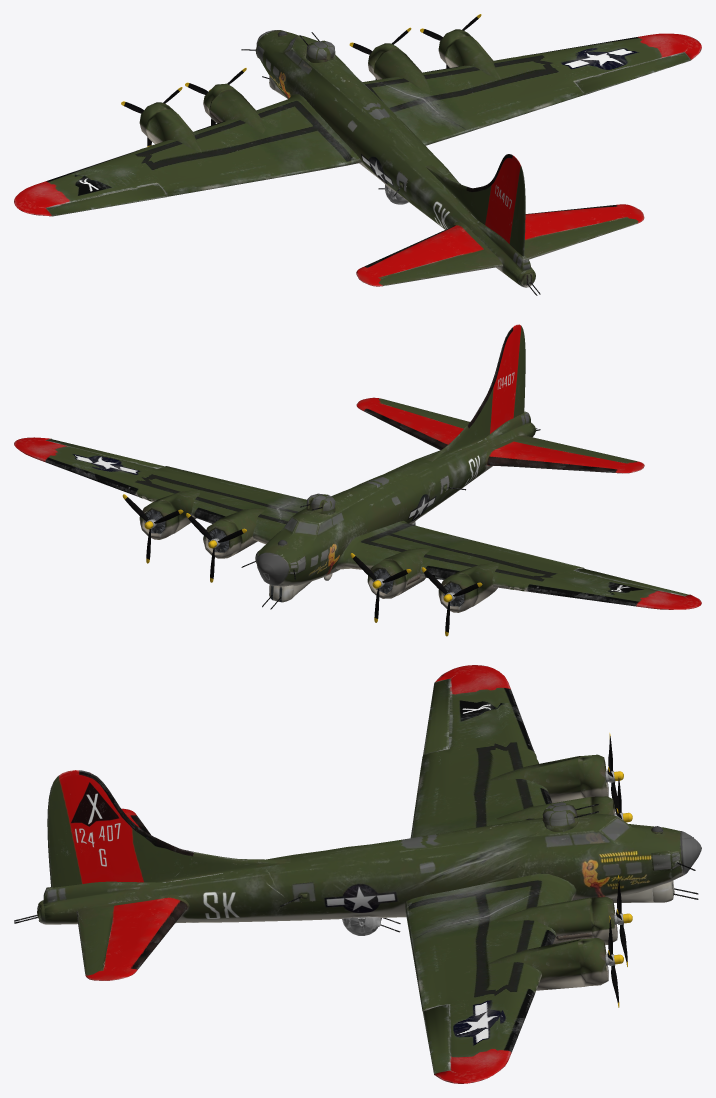
File: b17_mid.glb
3 renders of one model, top to bottom at view 1: azimuth 30°, elevation 25°; view 2: azimuth 150°, elevation 25°; view 3: azimuth 270°, elevation 25°, orthographic. The views are drawn at different scales.
Visible parts, largest first — view 1: polySurface4, polySurface2, MainFuselage2, HuuuuuuugeWingGuy2, Tail, HuuuuuuugeWingGuy3, EngineShellOuter2, EngineShellOuter, EngineShellInner2, EngineShellInner.001, TopTurret; view 2: MainFuselage2, polySurface4, polySurface2, Tail, HuuuuuuugeWingGuy2, HuuuuuuugeWingGuy3, EngineShellInner2, EngineShellOuter2, EngineShellInner.001, EngineShellOuter, Nose, TopTurret; view 3: MainFuselage2, polySurface2, polySurface4, Tail, HuuuuuuugeWingGuy3, EngineShellOuter, EngineShellOuter2, EngineShellInner.001, EngineShellInner2, TopTurret.
Boxes of the visible parts, <box> form: polySurface4: <box>14,94,361,216</box>; polySurface2: <box>348,33,701,145</box>; MainFuselage2: <box>257,30,533,285</box>; HuuuuuuugeWingGuy2: <box>356,222,502,286</box>; Tail: <box>425,154,525,256</box>; HuuuuuuugeWingGuy3: <box>513,204,644,262</box>; EngineShellOuter2: <box>139,102,201,152</box>; EngineShellOuter: <box>438,29,500,79</box>; EngineShellInner2: <box>203,83,265,133</box>; EngineShellInner.001: <box>368,43,430,93</box>; TopTurret: <box>306,40,335,62</box>; MainFuselage2: <box>257,411,535,597</box>; polySurface4: <box>336,520,701,609</box>; polySurface2: <box>14,437,342,561</box>; Tail: <box>426,324,525,461</box>; HuuuuuuugeWingGuy2: <box>485,435,644,473</box>; HuuuuuuugeWingGuy3: <box>356,397,469,449</box>; EngineShellInner2: <box>367,548,430,598</box>; EngineShellOuter2: <box>438,562,498,612</box>; EngineShellInner.001: <box>203,507,265,558</box>; EngineShellOuter: <box>139,490,199,539</box>; Nose: <box>256,552,289,585</box>; TopTurret: <box>306,493,335,514</box>; MainFuselage2: <box>43,814,683,924</box>; polySurface2: <box>404,873,576,1083</box>; polySurface4: <box>410,665,559,872</box>; Tail: <box>47,770,290,887</box>; HuuuuuuugeWingGuy3: <box>76,894,189,980</box>; EngineShellOuter: <box>488,938,608,990</box>; EngineShellOuter2: <box>488,754,608,803</box>; EngineShellInner.001: <box>495,897,617,944</box>; EngineShellInner2: <box>496,796,615,820</box>; TopTurret: <box>542,802,579,831</box>.
Bounding box in the file's own units: 32.62 × 5.97 × 22.7.
10 materials, 10 textured.
